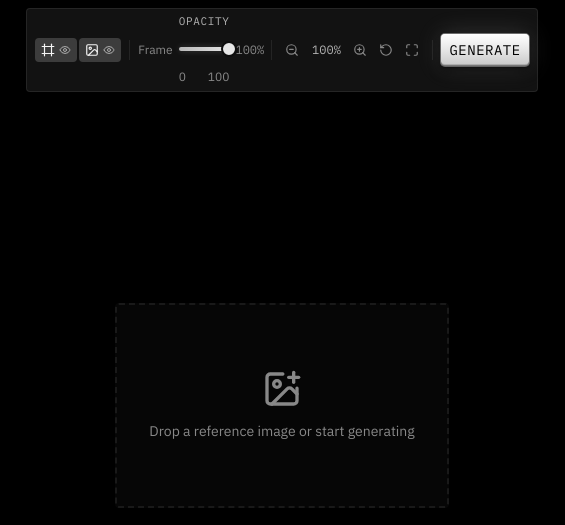
Test: CompositionPreview › toggles layer visibility on layer button click
Note: Click to toggle Frame layer visibility
Click the button named "Hide Frame".
click(56, 50)  # box [35,38,77,62]
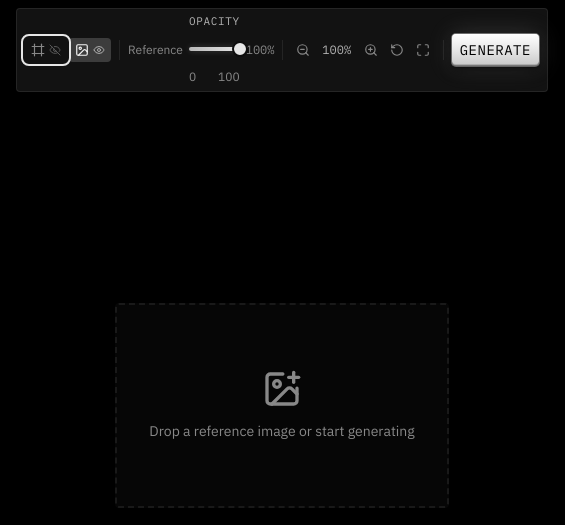
Check: the button named "Show Frame" is shown, box [25,38,67,62]
